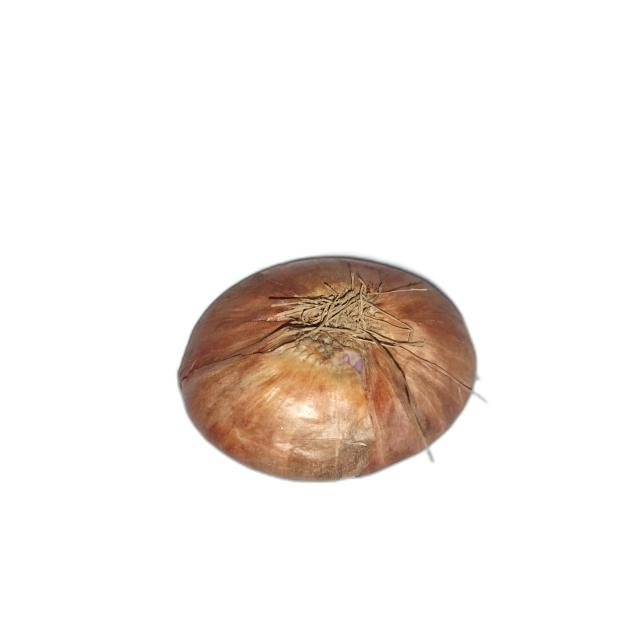onion: (176, 255, 488, 483)
